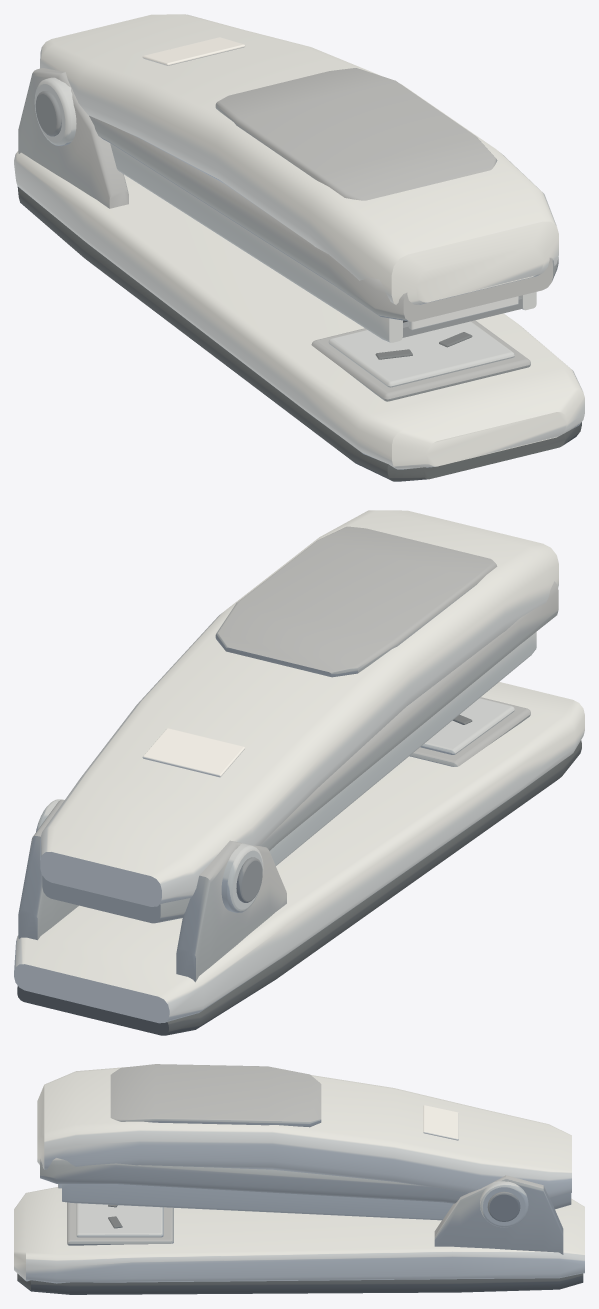
Rendered from 订书机.glb.
3 renders of one model, top to bottom at view 1: azimuth 30°, elevation 25°; view 2: azimuth 150°, elevation 25°; view 3: azimuth 270°, elevation 25°, orthographic. The views are drawn at different scales.
Parts seen in each view (by area): view 1: Asset_billpc; view 2: Asset_billpc; view 3: Asset_billpc.
Boxes of the visible parts, left/top/right/bottom form: Asset_billpc: left=14, top=14, right=584, bottom=481; Asset_billpc: left=14, top=510, right=584, bottom=1035; Asset_billpc: left=14, top=1064, right=584, bottom=1294.
Bounding box in the file's own units: 1.85 × 1.95 × 5.93.
Materials: 1 (1 with a texture image).
